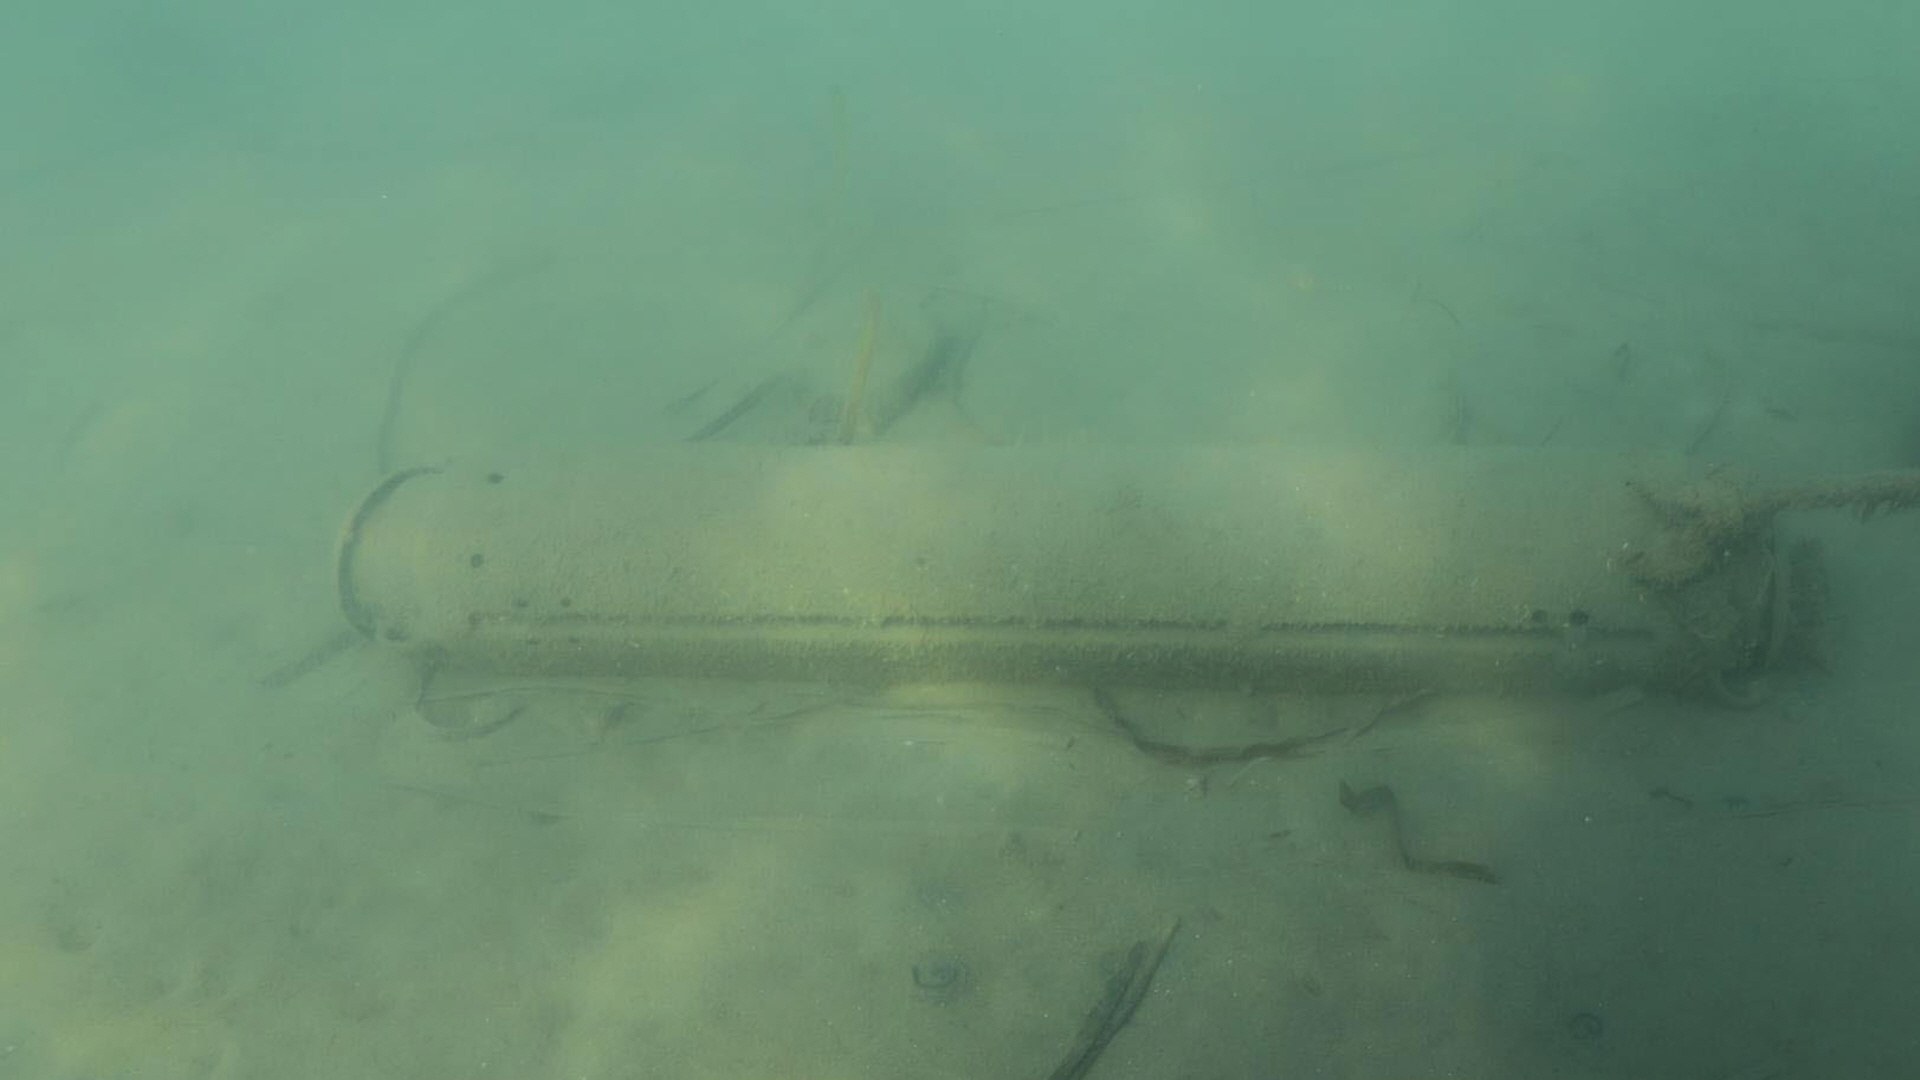bundle of ropes: (1698, 480, 1920, 549)
eel fish trap: (328, 388, 1789, 684)
